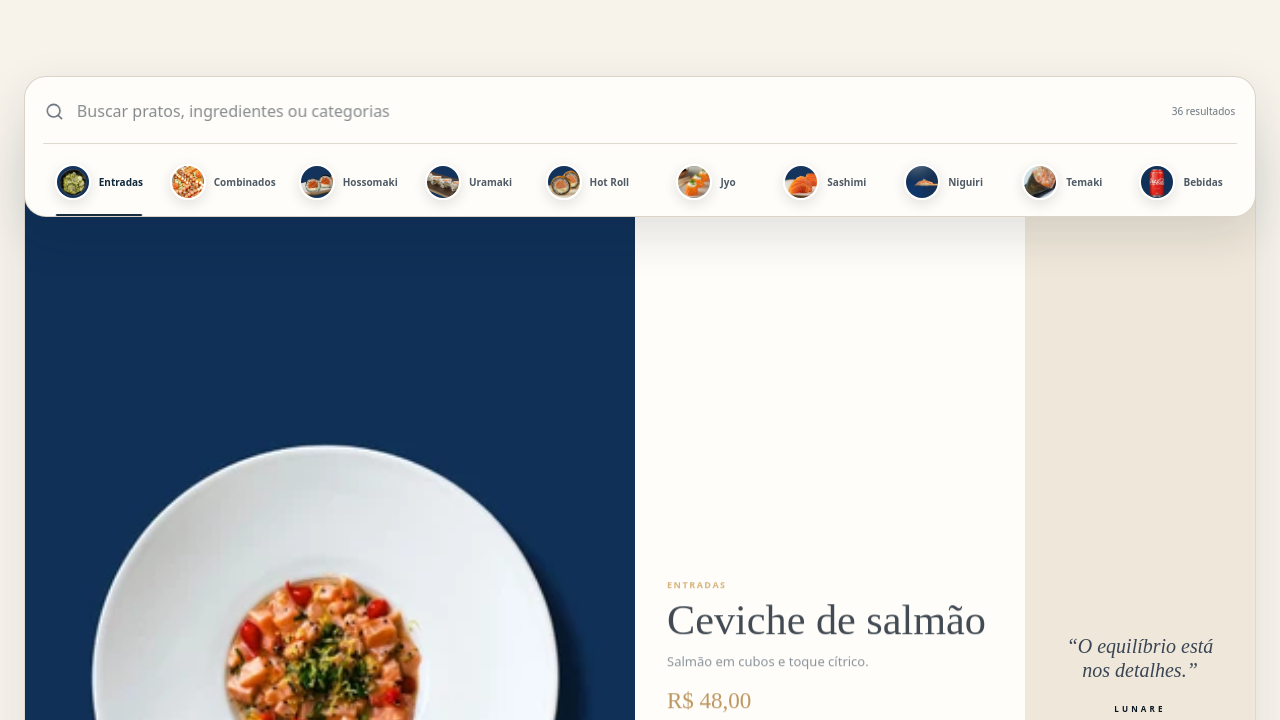
Test: MenuCatalog › filtra produtos instantaneamente e mostra o estado vazio
Step 1. Type "produto inexistente" into the search field named "buscar produto" → (618, 111), box [75,89,1161,133]
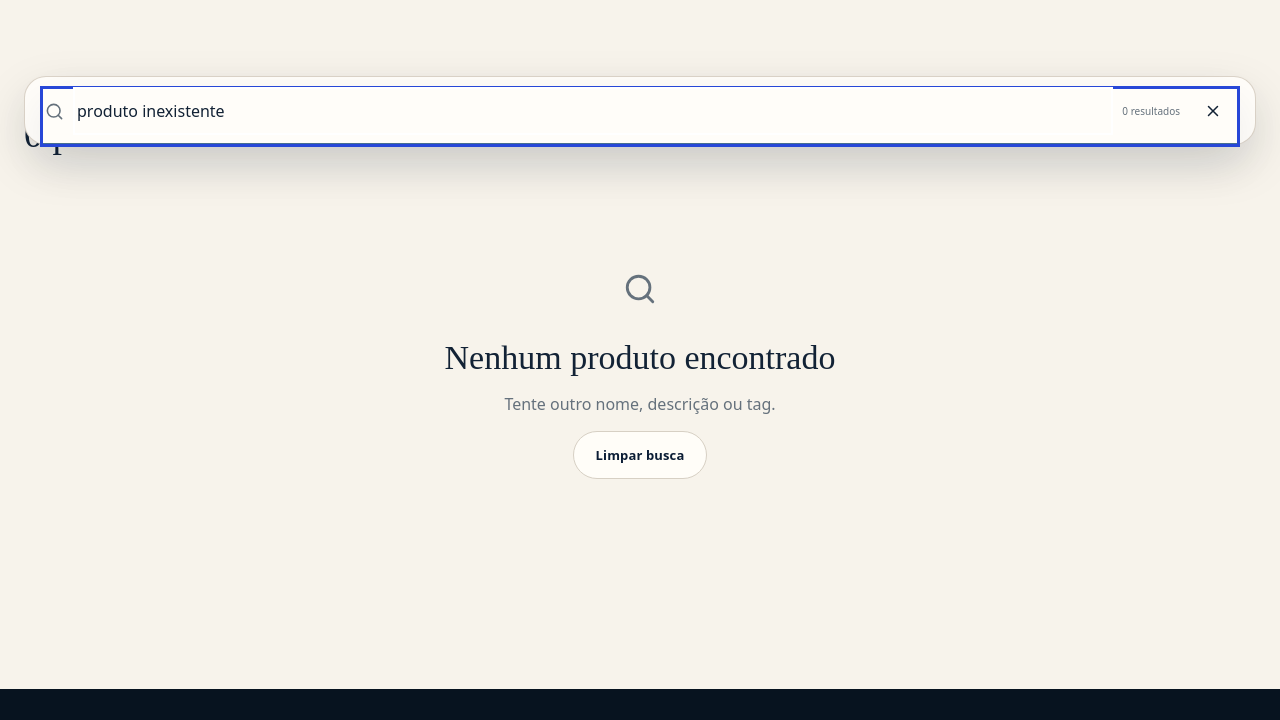
Now the heading "Nenhum produto encontrado" is shown, box [444,339,835,376]
